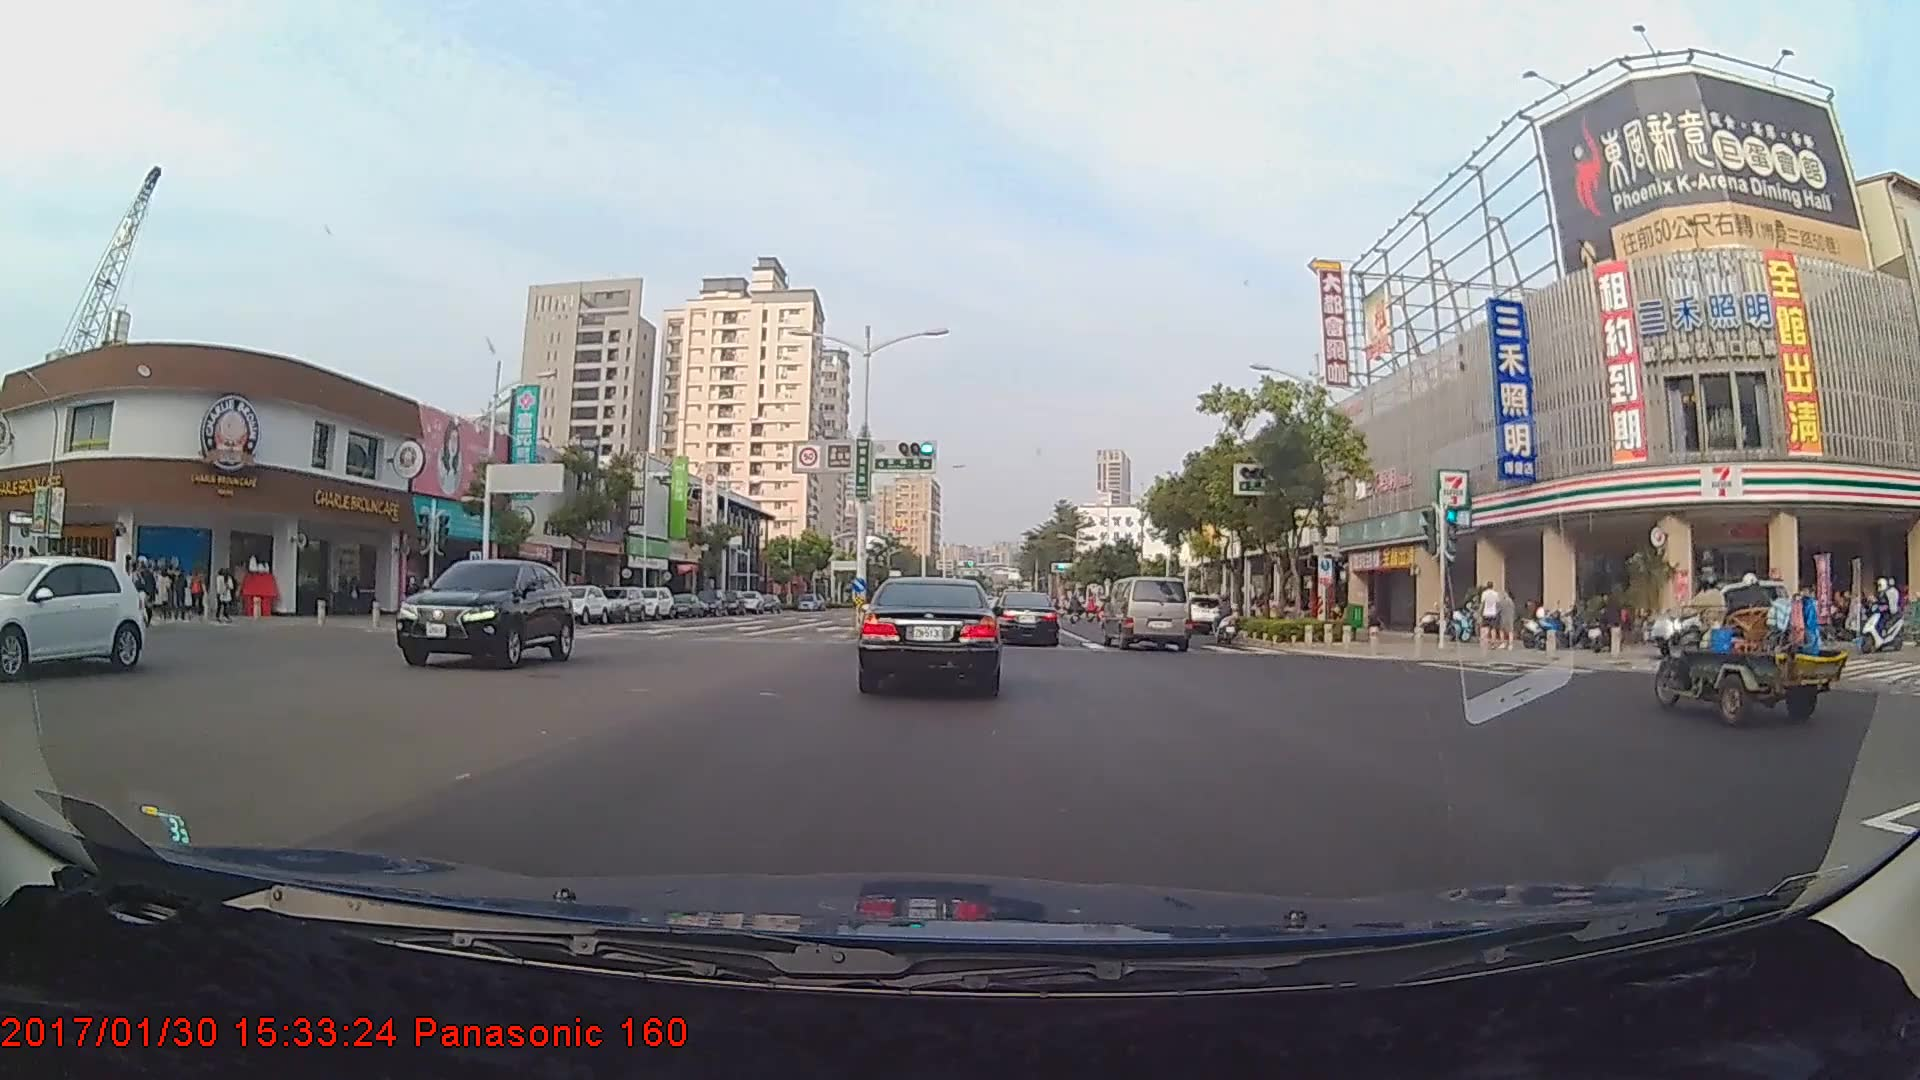pedestrian: (1479, 581, 1505, 649), (1498, 590, 1520, 652), (404, 572, 424, 622)
rider: (1853, 573, 1909, 656), (1213, 593, 1248, 650)
vehicle: (403, 556, 578, 669), (859, 574, 1001, 696), (1638, 576, 1798, 666), (26, 553, 141, 670), (1104, 575, 1190, 651), (991, 590, 1062, 646), (544, 583, 608, 623), (598, 580, 648, 619), (628, 586, 676, 622), (672, 593, 706, 620)
